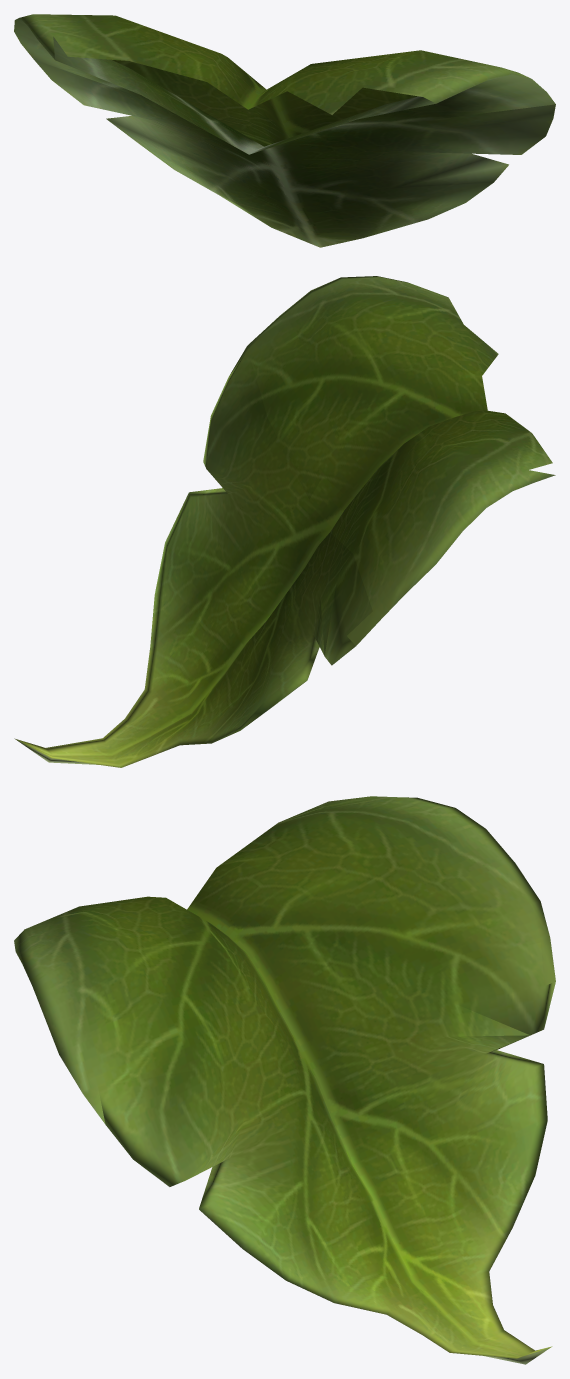
The model's file is sunflower_hoja_tras_izq.obj.
The picture shows the model from 3 angles, top to bottom: view 1: azimuth 30°, elevation 25°; view 2: azimuth 150°, elevation 25°; view 3: azimuth 270°, elevation 25°; orthographic projection. The views are drawn at different scales.
Parts seen in each view (by area): view 1: sunflower_hoja_tras_izq; view 2: sunflower_hoja_tras_izq; view 3: sunflower_hoja_tras_izq.
Boxes of the visible parts, x1,y1,x2,y2 form: sunflower_hoja_tras_izq: [14, 14, 555, 247]; sunflower_hoja_tras_izq: [14, 276, 555, 767]; sunflower_hoja_tras_izq: [14, 796, 555, 1364].
Size of the model in its own units: 0.2366 by 0.181 by 0.2368.
